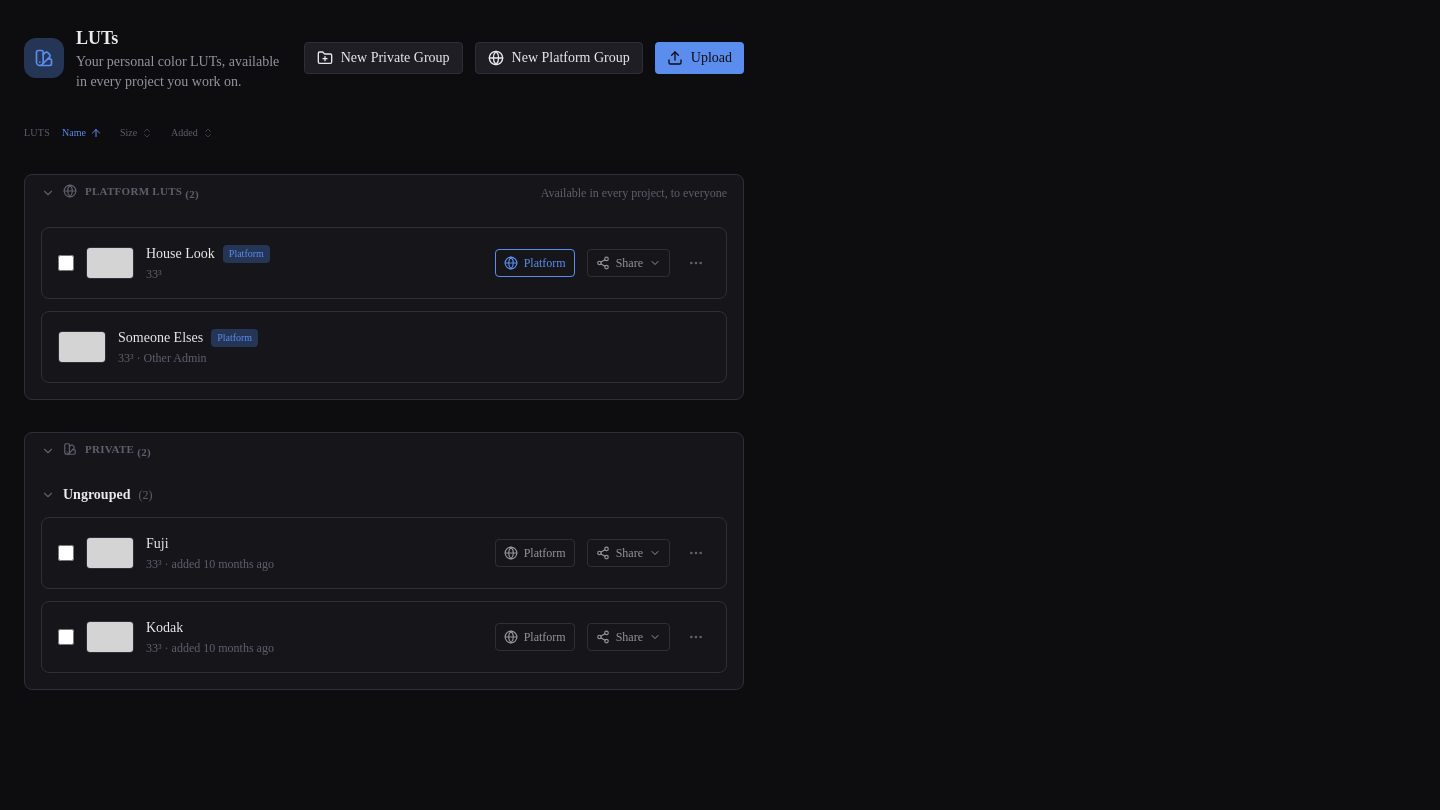
Test: deleting › names the one LUT when only one is selected
Click the checkbox named "Select Kodak".
click(66, 636)  # box x1=58 y1=628 x2=74 y2=644
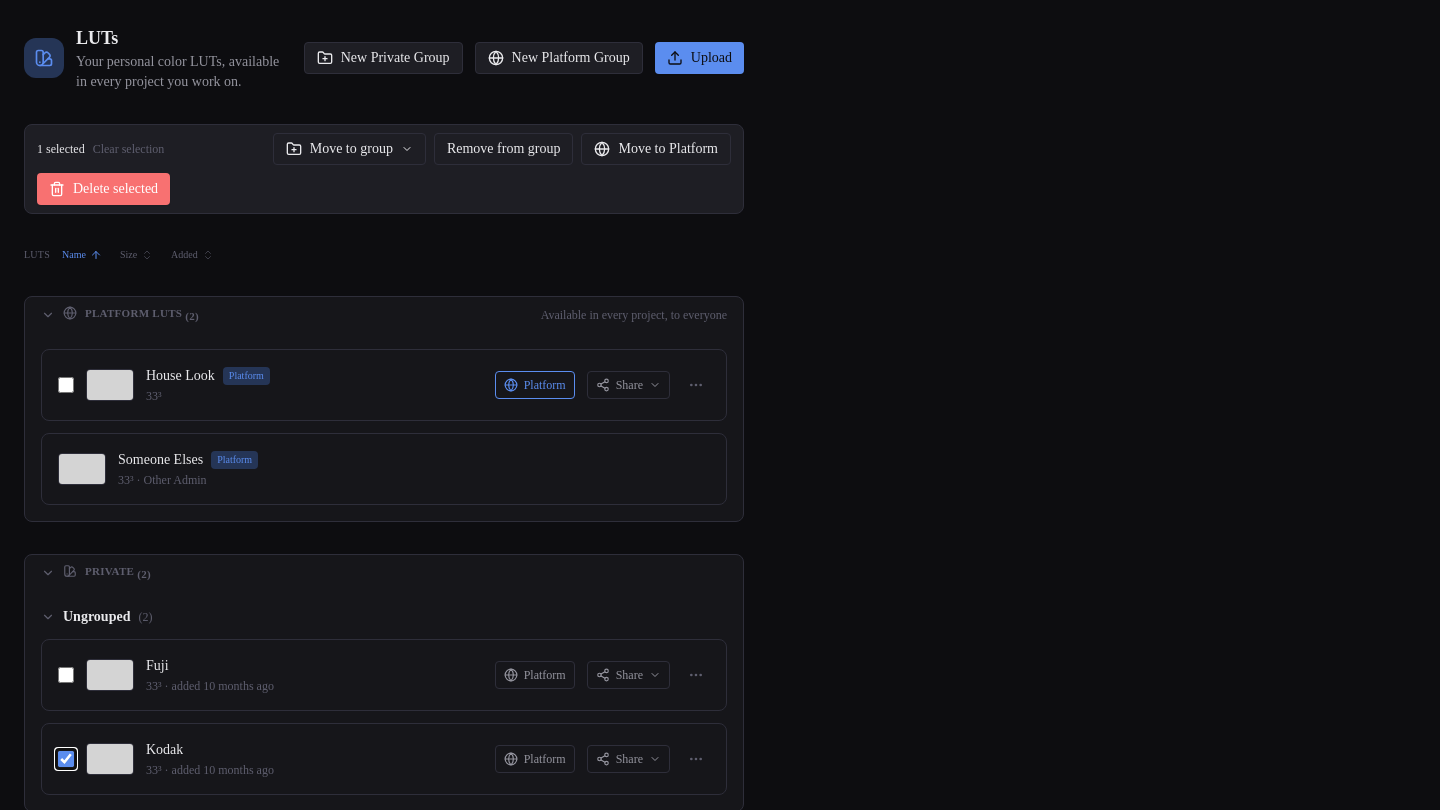
Click the button "Delete selected".
click(104, 189)  # box x1=37 y1=173 x2=170 y2=205
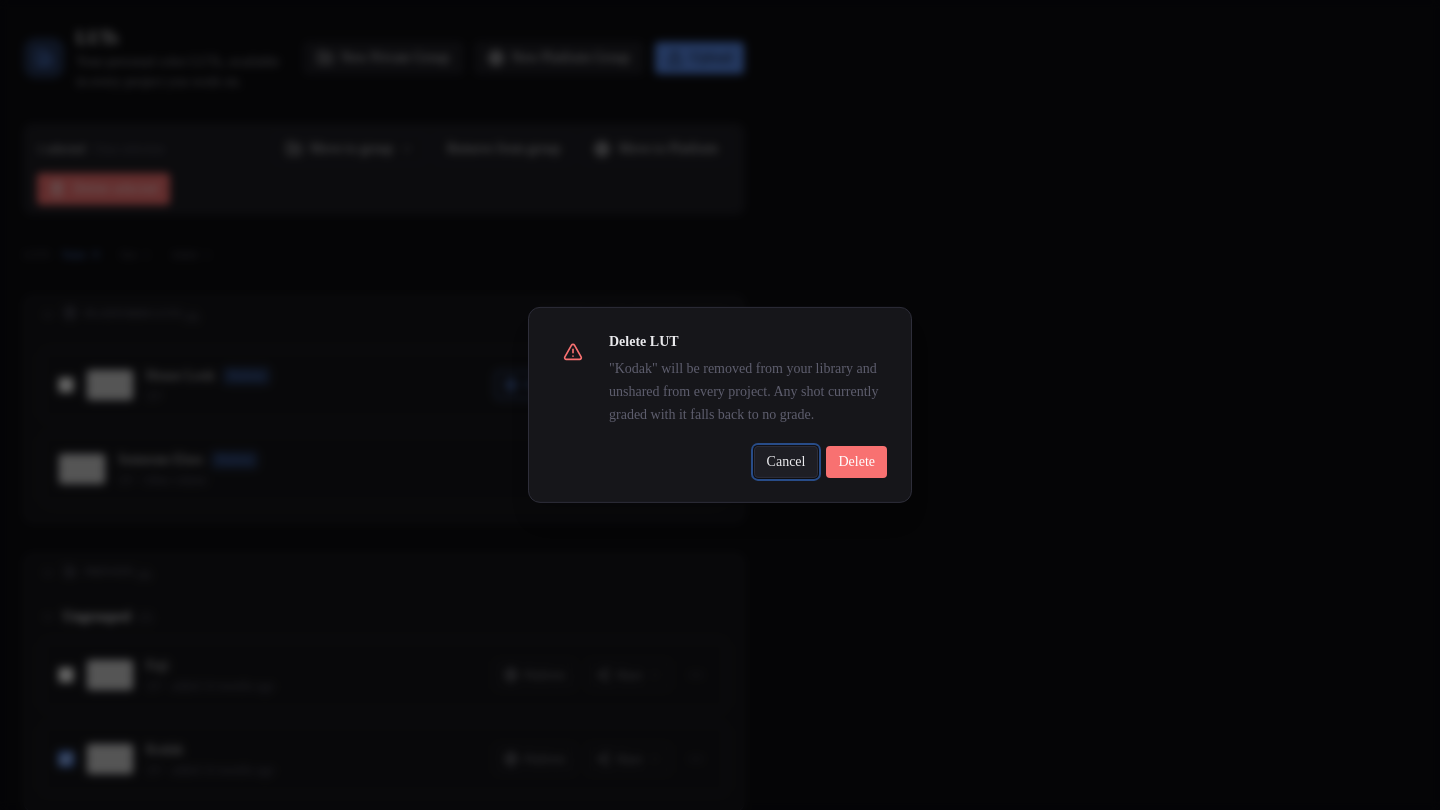
Result: the dialog shows "Kodak" at x1=609 y1=361 x2=878 y2=421
